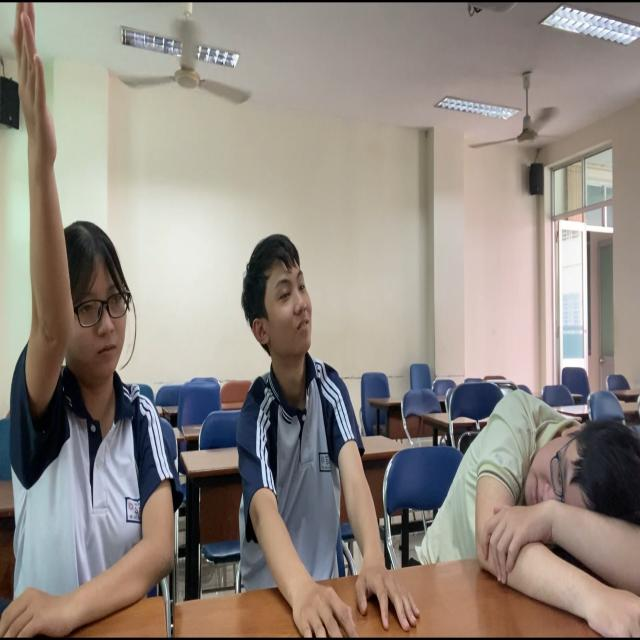raise_hand: (1, 5, 180, 640)
sleep: (419, 385, 640, 635)
